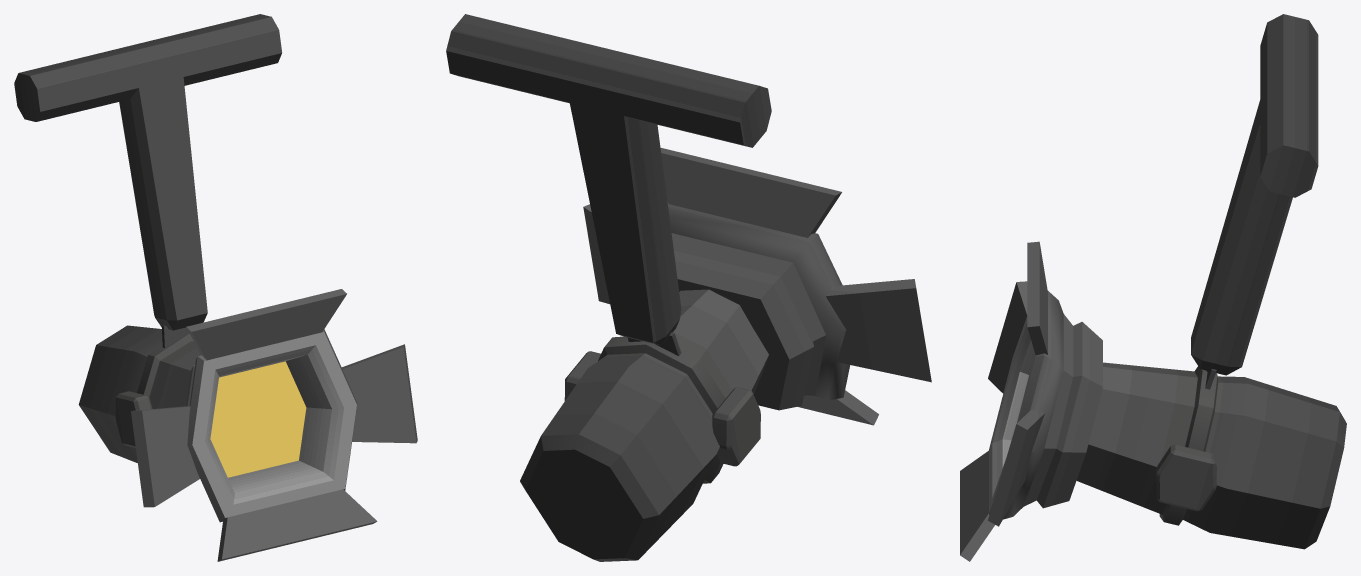
The model's file is Shorter_Spotlight.fbx.
3 views of the same model, side by side, from view 1: azimuth 30°, elevation 25°; view 2: azimuth 150°, elevation 25°; view 3: azimuth 270°, elevation 25° (orthographic). The views are drawn at different scales.
Visible parts, largest first — view 1: Light, Pole; view 2: Light, Pole; view 3: Light, Pole.
Part boxes in pixels (x1=…): Light: x1=78, y1=289, x2=417, y2=561; Pole: x1=14, y1=14, x2=282, y2=347; Light: x1=520, y1=148, x2=931, y2=561; Pole: x1=446, y1=14, x2=771, y2=356; Light: x1=960, y1=241, x2=1346, y2=561; Pole: x1=1191, y1=14, x2=1318, y2=389.
Size of the model in its own units: 0.7171 by 1.04 by 0.7887.
